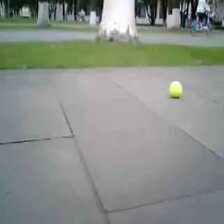tennis: (169, 80, 183, 98)
